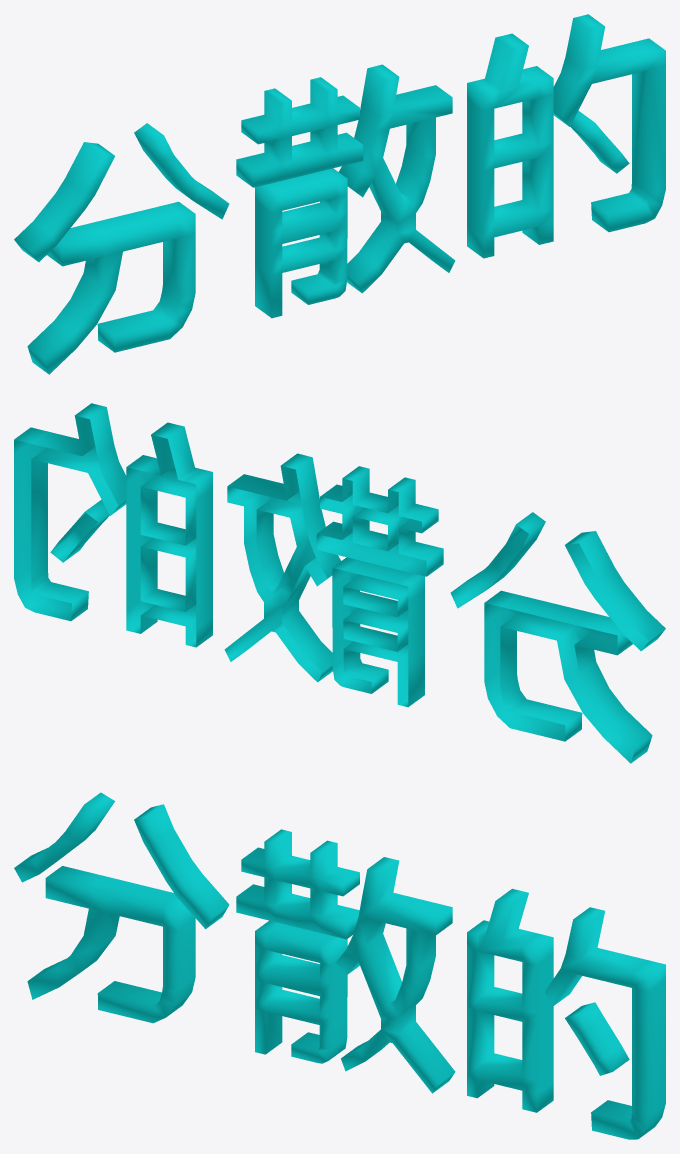
Rendered from Decentral.glb.
3 views of the same model, one above another, from view 1: azimuth 30°, elevation 25°; view 2: azimuth 150°, elevation 25°; view 3: azimuth 330°, elevation 25° (orthographic).
Parts seen in each view (by area): view 1: Decentral; view 2: Decentral; view 3: Decentral.
Boxes of the visible parts, bbox=[...] form: Decentral: bbox=[14, 14, 665, 374]; Decentral: bbox=[14, 403, 665, 763]; Decentral: bbox=[14, 792, 665, 1139].
Size of the model in its own units: 1.45 by 0.4683 by 0.0664.
Materials: 1 (1 with a texture image).
